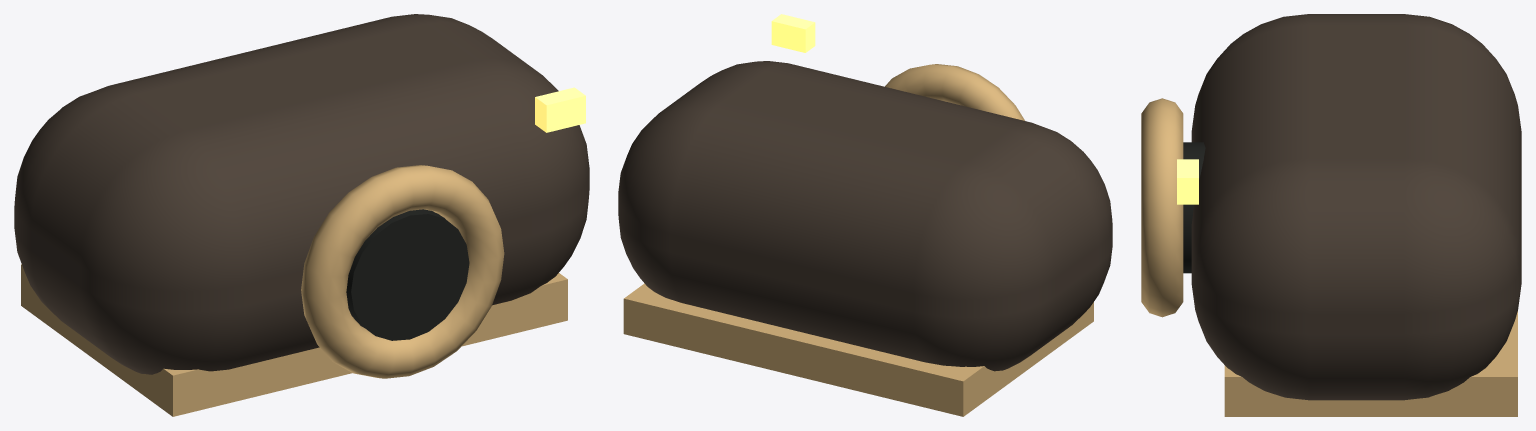
3 views of the same model, side by side, from view 1: azimuth 30°, elevation 25°; view 2: azimuth 150°, elevation 25°; view 3: azimuth 270°, elevation 25° (orthographic). The views are drawn at different scales.
Visible parts, largest first — view 1: camera-body, camera-optic-ring, camera-foot, camera-lens, recording-led; view 2: camera-body, camera-foot, camera-optic-ring, recording-led; view 3: camera-body, camera-foot, camera-optic-ring, camera-lens, recording-led.
Boxes of the visible parts, x1=… form: camera-body: x1=14, y1=14, x2=589, y2=374; camera-optic-ring: x1=301, y1=165, x2=504, y2=378; camera-foot: x1=21, y1=264, x2=567, y2=416; camera-lens: x1=346, y1=209, x2=469, y2=340; recording-led: x1=535, y1=87, x2=585, y2=132; camera-body: x1=618, y1=61, x2=1112, y2=371; camera-foot: x1=623, y1=283, x2=1093, y2=416; camera-optic-ring: x1=885, y1=64, x2=1024, y2=120; recording-led: x1=771, y1=14, x2=815, y2=52; camera-body: x1=1191, y1=14, x2=1521, y2=400; camera-foot: x1=1224, y1=311, x2=1517, y2=416; camera-optic-ring: x1=1141, y1=98, x2=1183, y2=317; camera-lens: x1=1183, y1=142, x2=1205, y2=273; recording-led: x1=1177, y1=159, x2=1198, y2=204.
Bounding box in the file's own units: 0.15 × 0.071 × 0.1037.
